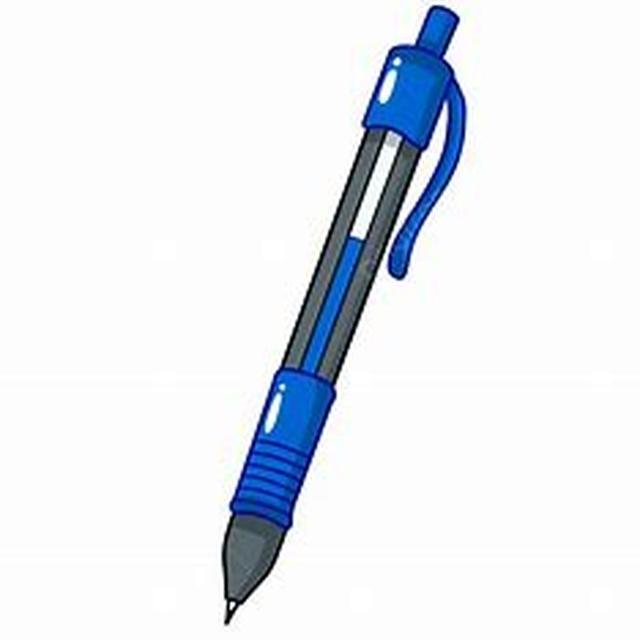pen: (196, 4, 457, 626)
